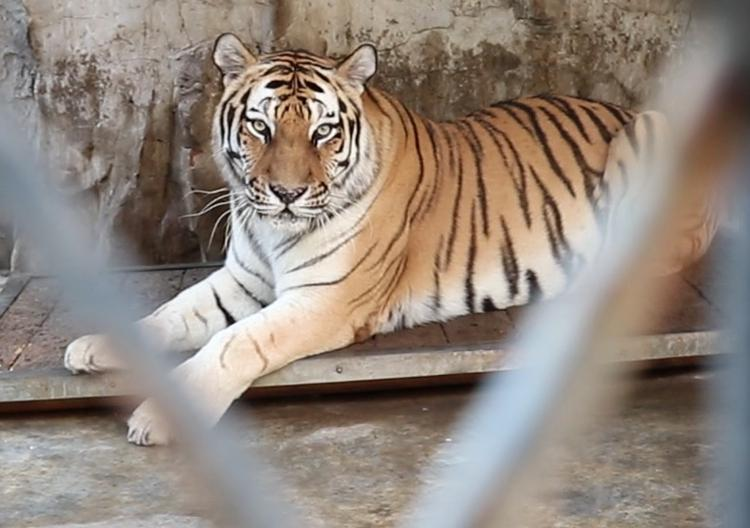tiger: (140, 33, 666, 421)
